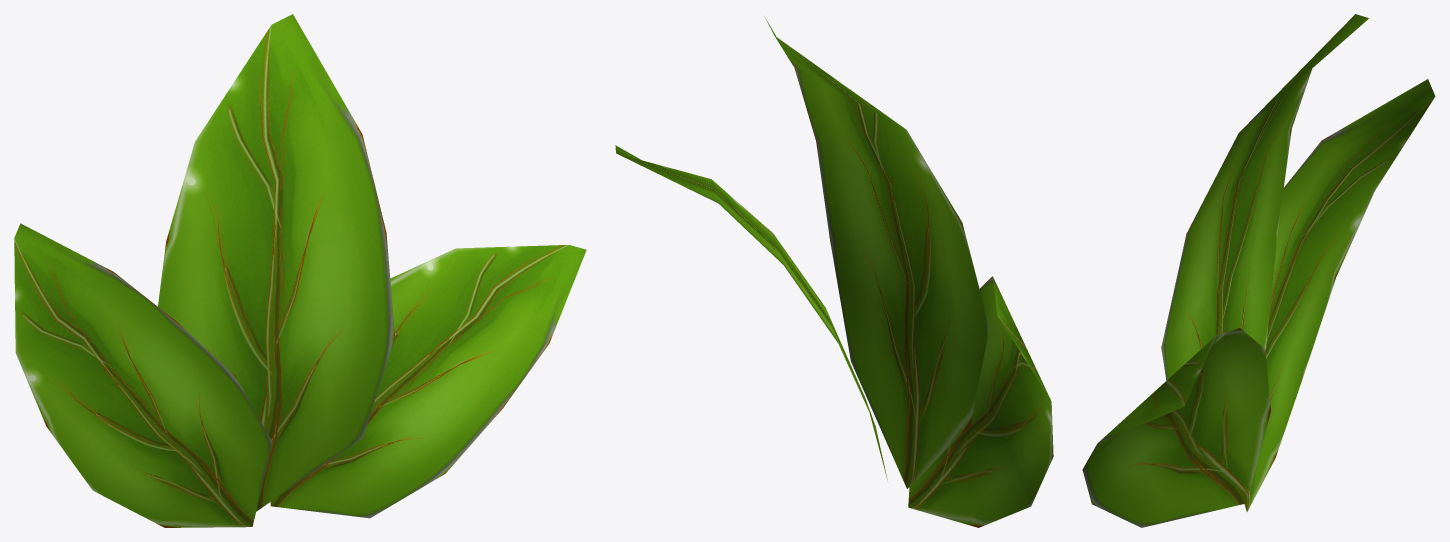
File: leaf2.fbx
3 renders of one model, left to right at view 1: azimuth 30°, elevation 25°; view 2: azimuth 150°, elevation 25°; view 3: azimuth 270°, elevation 25°, orthographic. The views are drawn at different scales.
Visible parts, largest first — view 1: polySurface406, polySurface405, polySurface391; view 2: polySurface406, polySurface405, polySurface391; view 3: polySurface391, polySurface405, polySurface406.
Boxes of the visible parts, <box> form: polySurface406: <box>158,14,394,511</box>; polySurface405: <box>14,223,272,527</box>; polySurface391: <box>270,245,586,518</box>; polySurface406: <box>764,16,989,488</box>; polySurface405: <box>908,276,1053,527</box>; polySurface391: <box>615,145,887,479</box>; polySurface391: <box>1082,328,1270,527</box>; polySurface405: <box>1244,79,1435,511</box>; polySurface406: <box>1161,14,1368,380</box>.
Size of the model in its own units: 304 by 276 by 161.
